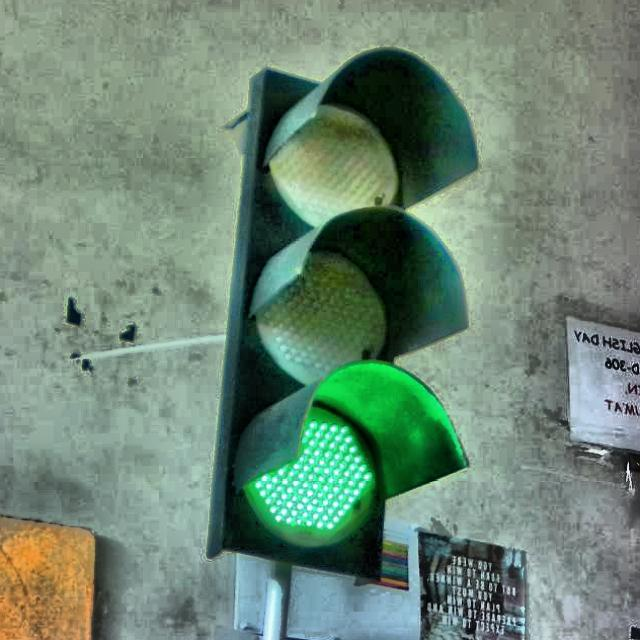green: (204, 48, 479, 561)
